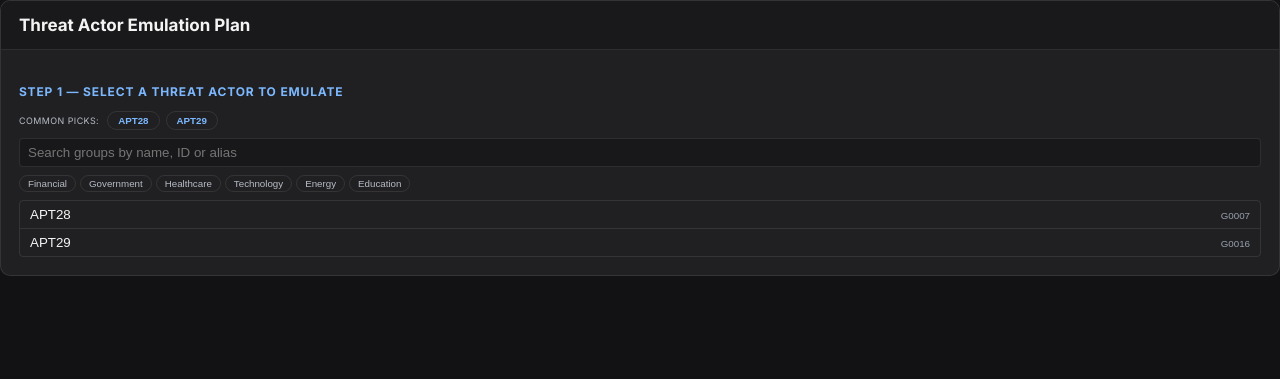
it: EmulationPlanPanelComponent › Common picks drive the shared picker (RP-F item 3) › clicking a preset selects it in the rendered picker and the Selected line matches
This screenshot has width=1280, height=379.
Step 1. Click the button with class "tpp-quick-btn" showing "APT29" → point(192, 120), box [166,111,218,130]
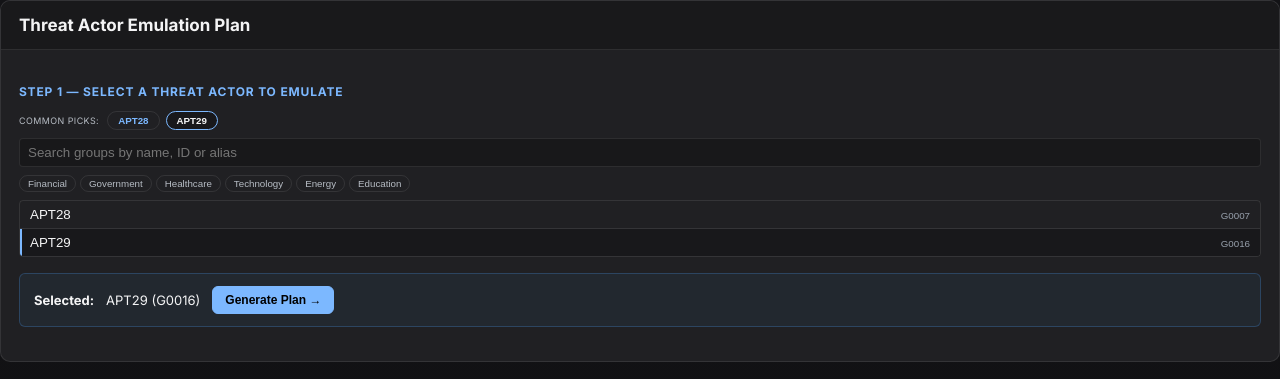
Result: the element with class "emu-selected-actor" shows "Selected: APT29 (G0016)" at [19,273,1261,327]
Note: A later click on a list item moves both together.
Step 2. Click the button with class "tpp-item" showing "APT28 G0007" → point(50, 214), box [20,201,1260,228]
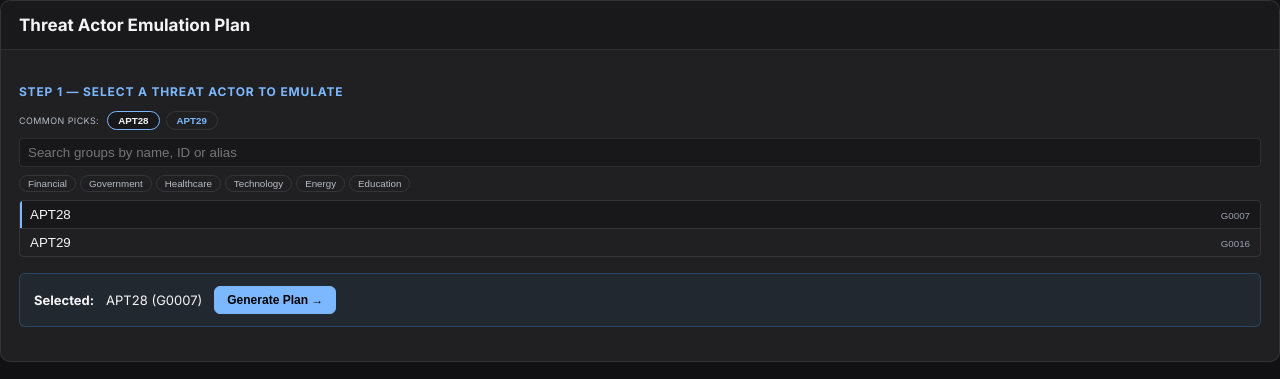
Result: the element with class "emu-selected-actor" shows "Selected: APT28 (G0007)" at [19,273,1261,327]
